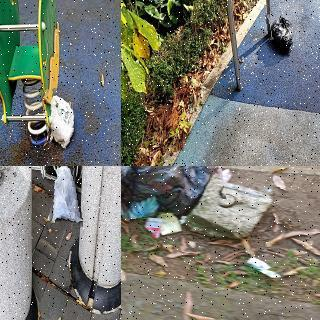Garbage: (121, 166, 225, 216), (42, 166, 80, 231), (43, 86, 80, 151), (266, 12, 297, 60), (121, 193, 157, 218)
